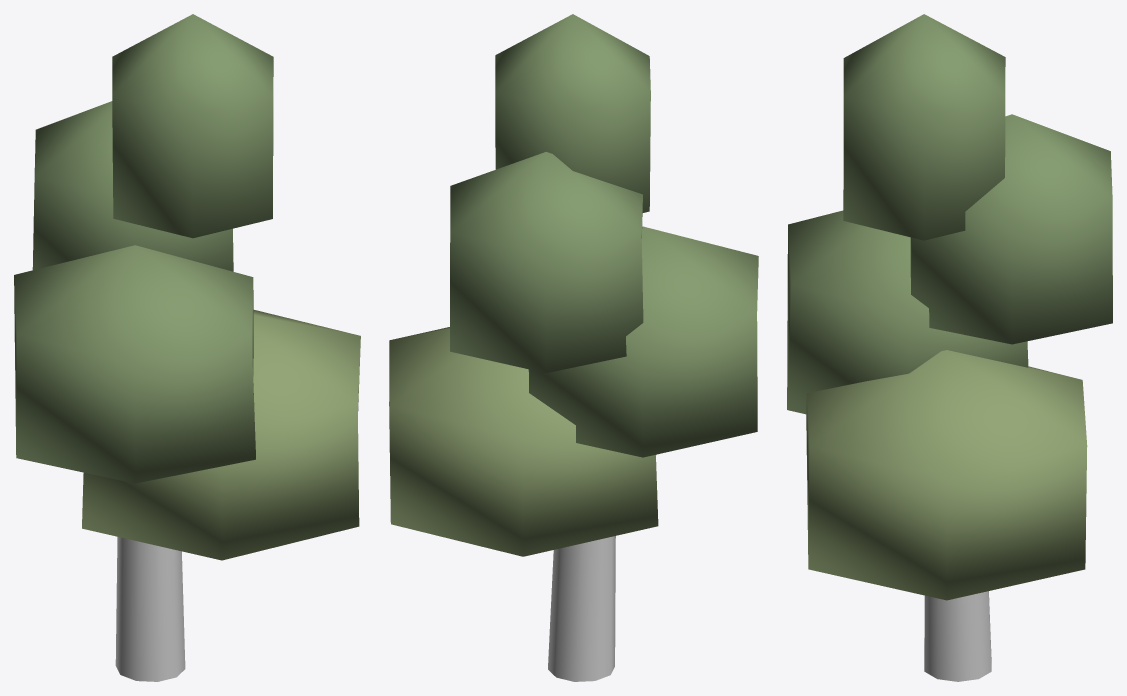
Rendered from pine_v0_mid.gltf.
3 renders of one model, left to right at view 1: azimuth 30°, elevation 25°; view 2: azimuth 150°, elevation 25°; view 3: azimuth 270°, elevation 25°, orthographic. The views are drawn at different scales.
Parts seen in each view (by area): view 1: foliage, bark; view 2: foliage, bark; view 3: foliage, bark.
Part boxes in pixels (x1=…): foliage: x1=14, y1=14, x2=360, y2=560; bark: x1=115, y1=536, x2=185, y2=681; foliage: x1=389, y1=14, x2=758, y2=556; bark: x1=548, y1=536, x2=615, y2=681; foliage: x1=787, y1=14, x2=1112, y2=600; bark: x1=924, y1=591, x2=991, y2=681.
Size of the model in its own units: 2.64 by 4.57 by 2.03.
